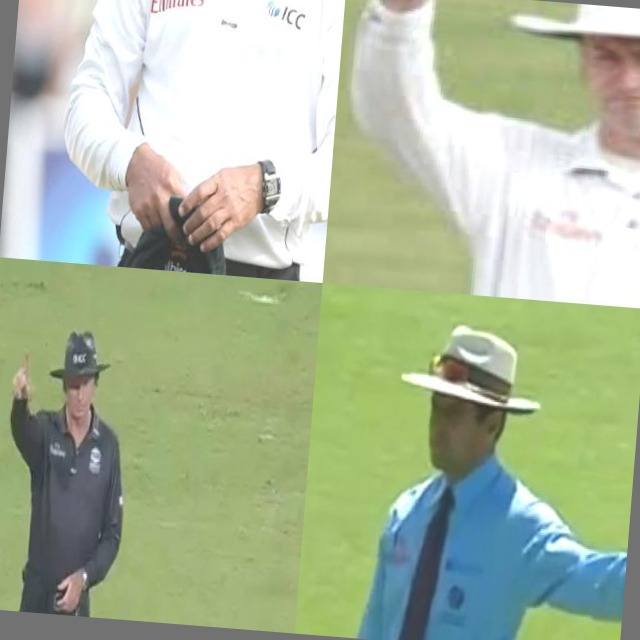No_Action: (44, 0, 346, 283)
No_Ball: (295, 297, 640, 640)
Out: (323, 0, 640, 309), (0, 313, 148, 620)
